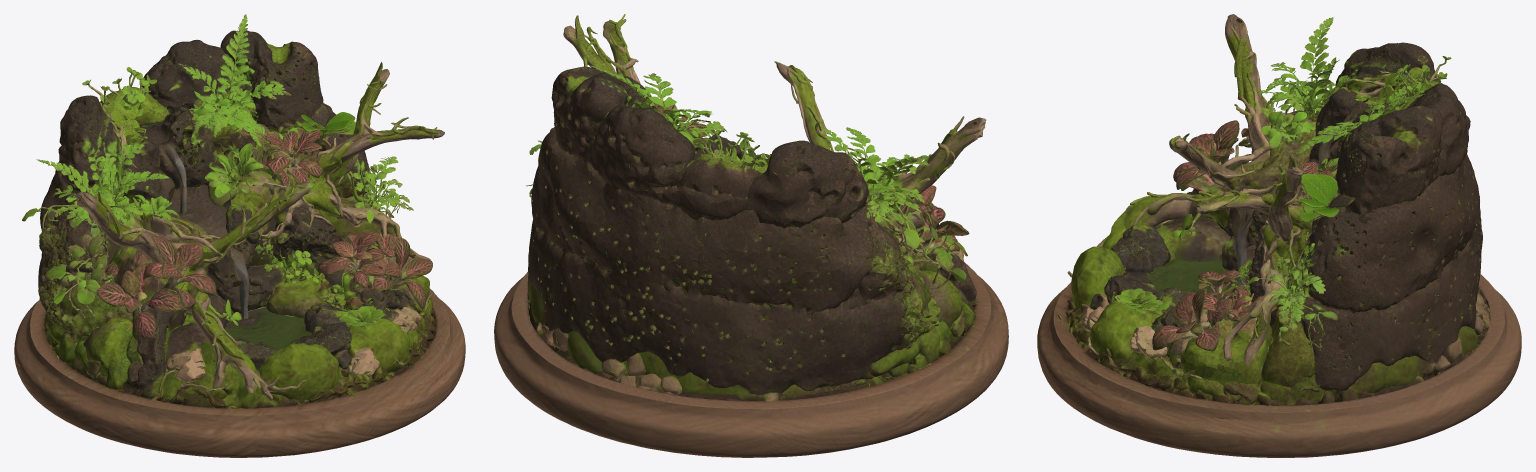
Rendered from tropic.glb.
3 views of the same model, side by side, from view 1: azimuth 30°, elevation 25°; view 2: azimuth 150°, elevation 25°; view 3: azimuth 270°, elevation 25° (orthographic). The views are drawn at different scales.
Visible parts, largest first — view 1: Mesh_0; view 2: Mesh_0; view 3: Mesh_0.
Part boxes in pixels (x1,y1,x2,y2): Mesh_0: (14,14,465,457); Mesh_0: (494,14,1008,457); Mesh_0: (1037,14,1521,457).
Bounding box in the file's own units: 1.9 × 1.32 × 1.9.
1 material, 1 textured.
